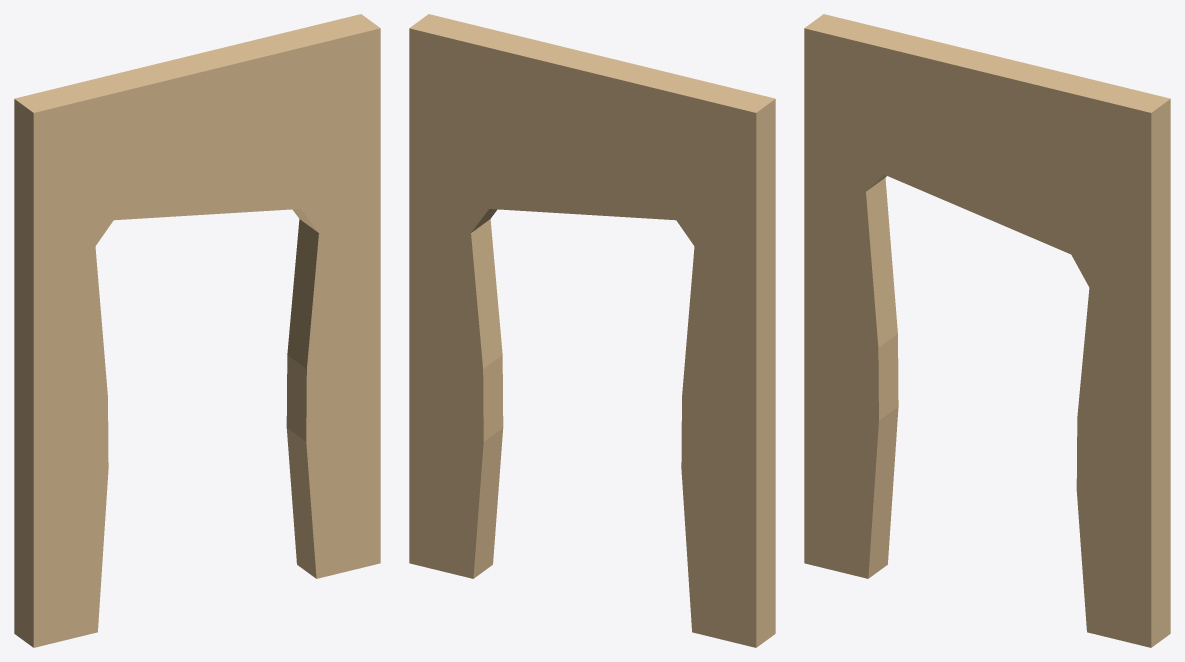
The model's file is doorwall.fbx.
3 renders of one model, left to right at view 1: azimuth 30°, elevation 25°; view 2: azimuth 150°, elevation 25°; view 3: azimuth 330°, elevation 25°, orthographic.
Parts seen in each view (by area): view 1: Cube.017; view 2: Cube.017; view 3: Cube.017.
Boxes of the visible parts, x1=… form: Cube.017: x1=14, y1=14, x2=380, y2=647; Cube.017: x1=409, y1=14, x2=775, y2=647; Cube.017: x1=804, y1=14, x2=1170, y2=647.
Bounding box in the file's own units: 396 × 584 × 38.7.
